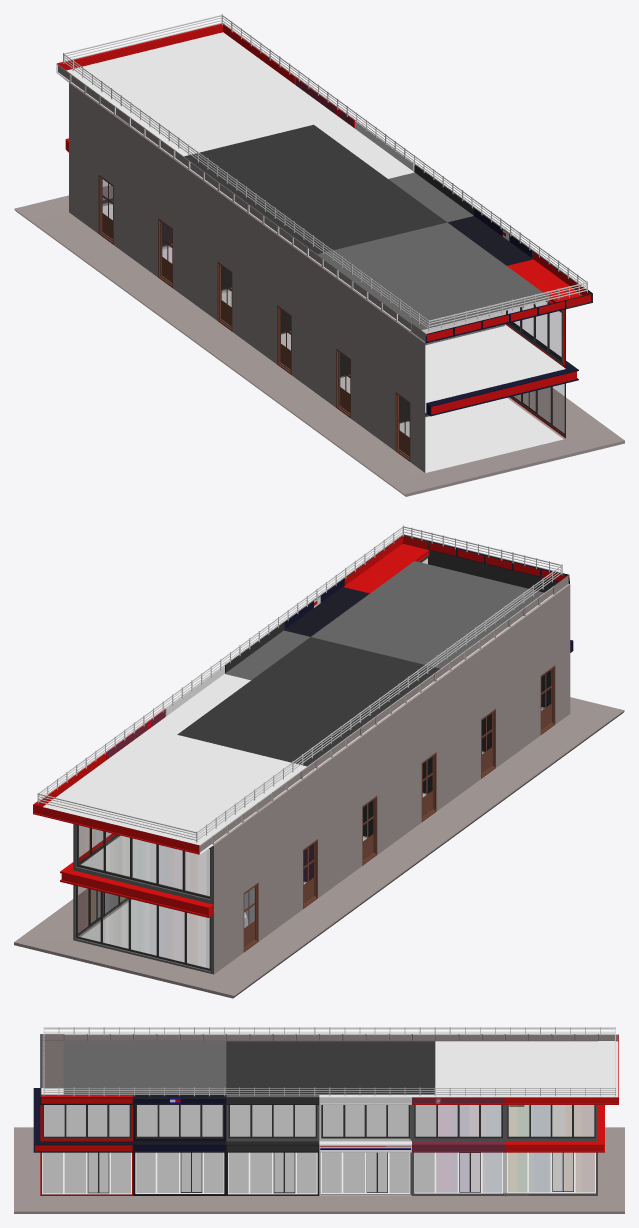
Rendered from plane.107_lev3.glb.
3 views of the same model, one above another, from view 1: azimuth 30°, elevation 25°; view 2: azimuth 150°, elevation 25°; view 3: azimuth 270°, elevation 25° (orthographic). The views are drawn at different scales.
Visible parts, largest first — view 1: plane.107_lev3; view 2: plane.107_lev3; view 3: plane.107_lev3.
Part boxes in pixels (box(x1,y1,x2,y2)): plane.107_lev3: box(14, 14, 624, 496); plane.107_lev3: box(14, 525, 624, 998); plane.107_lev3: box(14, 1027, 624, 1213).
Bounding box in the file's own units: 9.63 × 6.35 × 29.49.
Materials: 20 (2 with a texture image).
